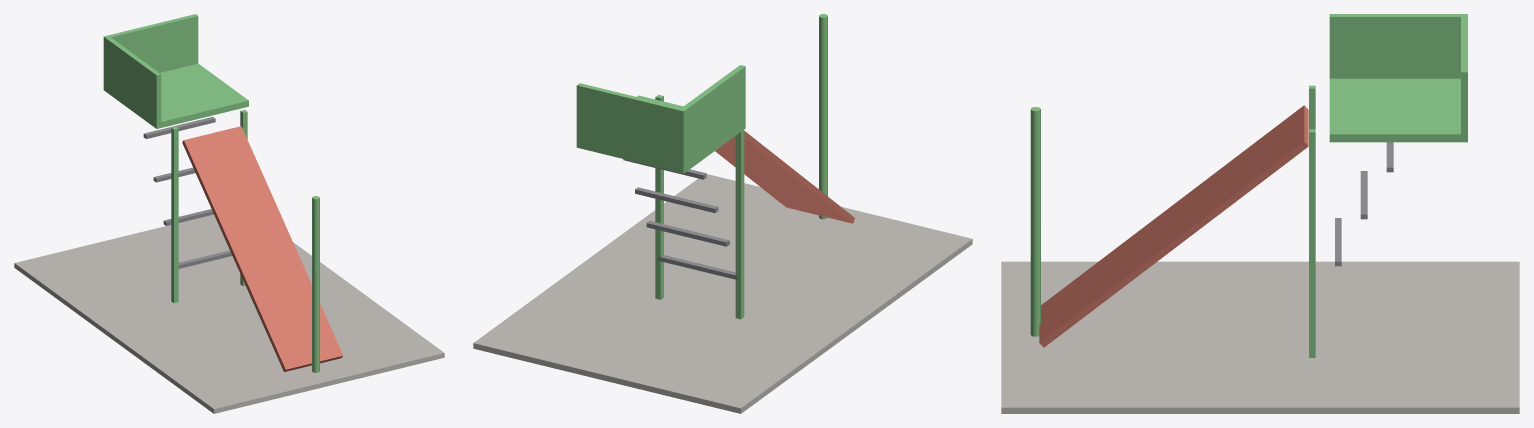
The model's file is playground_slide.glb.
3 views of the same model, side by side, from view 1: azimuth 30°, elevation 25°; view 2: azimuth 150°, elevation 25°; view 3: azimuth 270°, elevation 25° (orthographic). The views are drawn at different scales.
Visible parts, largest first — view 1: base, slide, platform, rail_back, rail_left, support, ladder_side_l, step_4; view 2: base, rail_back, rail_left, slide, ladder_side_l, support, platform, ladder_side_r, step_3, step_2, step_1; view 3: base, slide, platform, rail_left, support, ladder_side_r, rail_back.
Boxes of the visible parts, x1,y1,x2,y2 form: base: [14, 214, 444, 413]; slide: [182, 126, 343, 371]; platform: [103, 63, 248, 128]; rail_back: [104, 14, 198, 85]; rail_left: [103, 36, 161, 123]; support: [312, 196, 319, 372]; ladder_side_l: [171, 126, 178, 303]; step_4: [143, 116, 215, 138]; base: [473, 174, 972, 413]; rail_back: [576, 83, 686, 166]; rail_left: [678, 65, 745, 166]; slide: [715, 131, 854, 223]; ladder_side_l: [735, 130, 744, 319]; support: [819, 14, 827, 219]; platform: [576, 95, 745, 173]; ladder_side_r: [655, 94, 663, 299]; step_3: [635, 187, 718, 212]; step_2: [646, 221, 729, 246]; step_1: [658, 255, 738, 279]; base: [1001, 261, 1519, 413]; slide: [1039, 105, 1308, 347]; platform: [1329, 78, 1467, 142]; rail_left: [1329, 14, 1467, 78]; support: [1030, 107, 1040, 336]; ladder_side_r: [1309, 129, 1315, 357]; rail_back: [1461, 14, 1467, 134].
Bounding box in the file's own units: 2 × 1.92 × 3.
